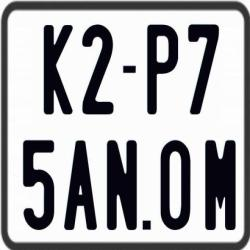0: (160, 140, 192, 230)
2: (82, 23, 116, 116)
5: (22, 139, 54, 229)
7: (188, 25, 221, 116)
A: (64, 140, 98, 231)
K: (42, 25, 73, 116)
M: (205, 139, 237, 231)
N: (106, 140, 137, 233)
P: (147, 24, 178, 114)
